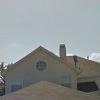Chimney: (53, 39, 71, 62)
